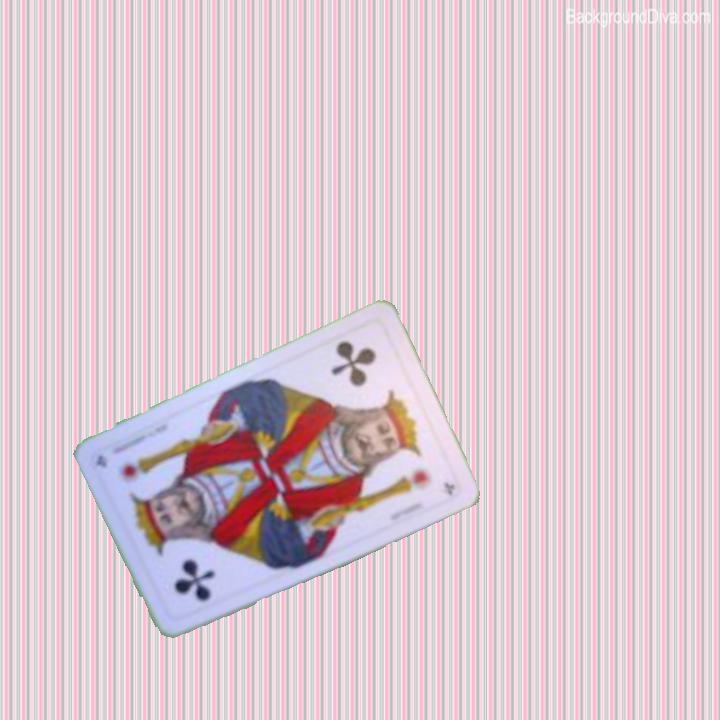c_k.png: (131, 502, 249, 627), (305, 317, 423, 442)
